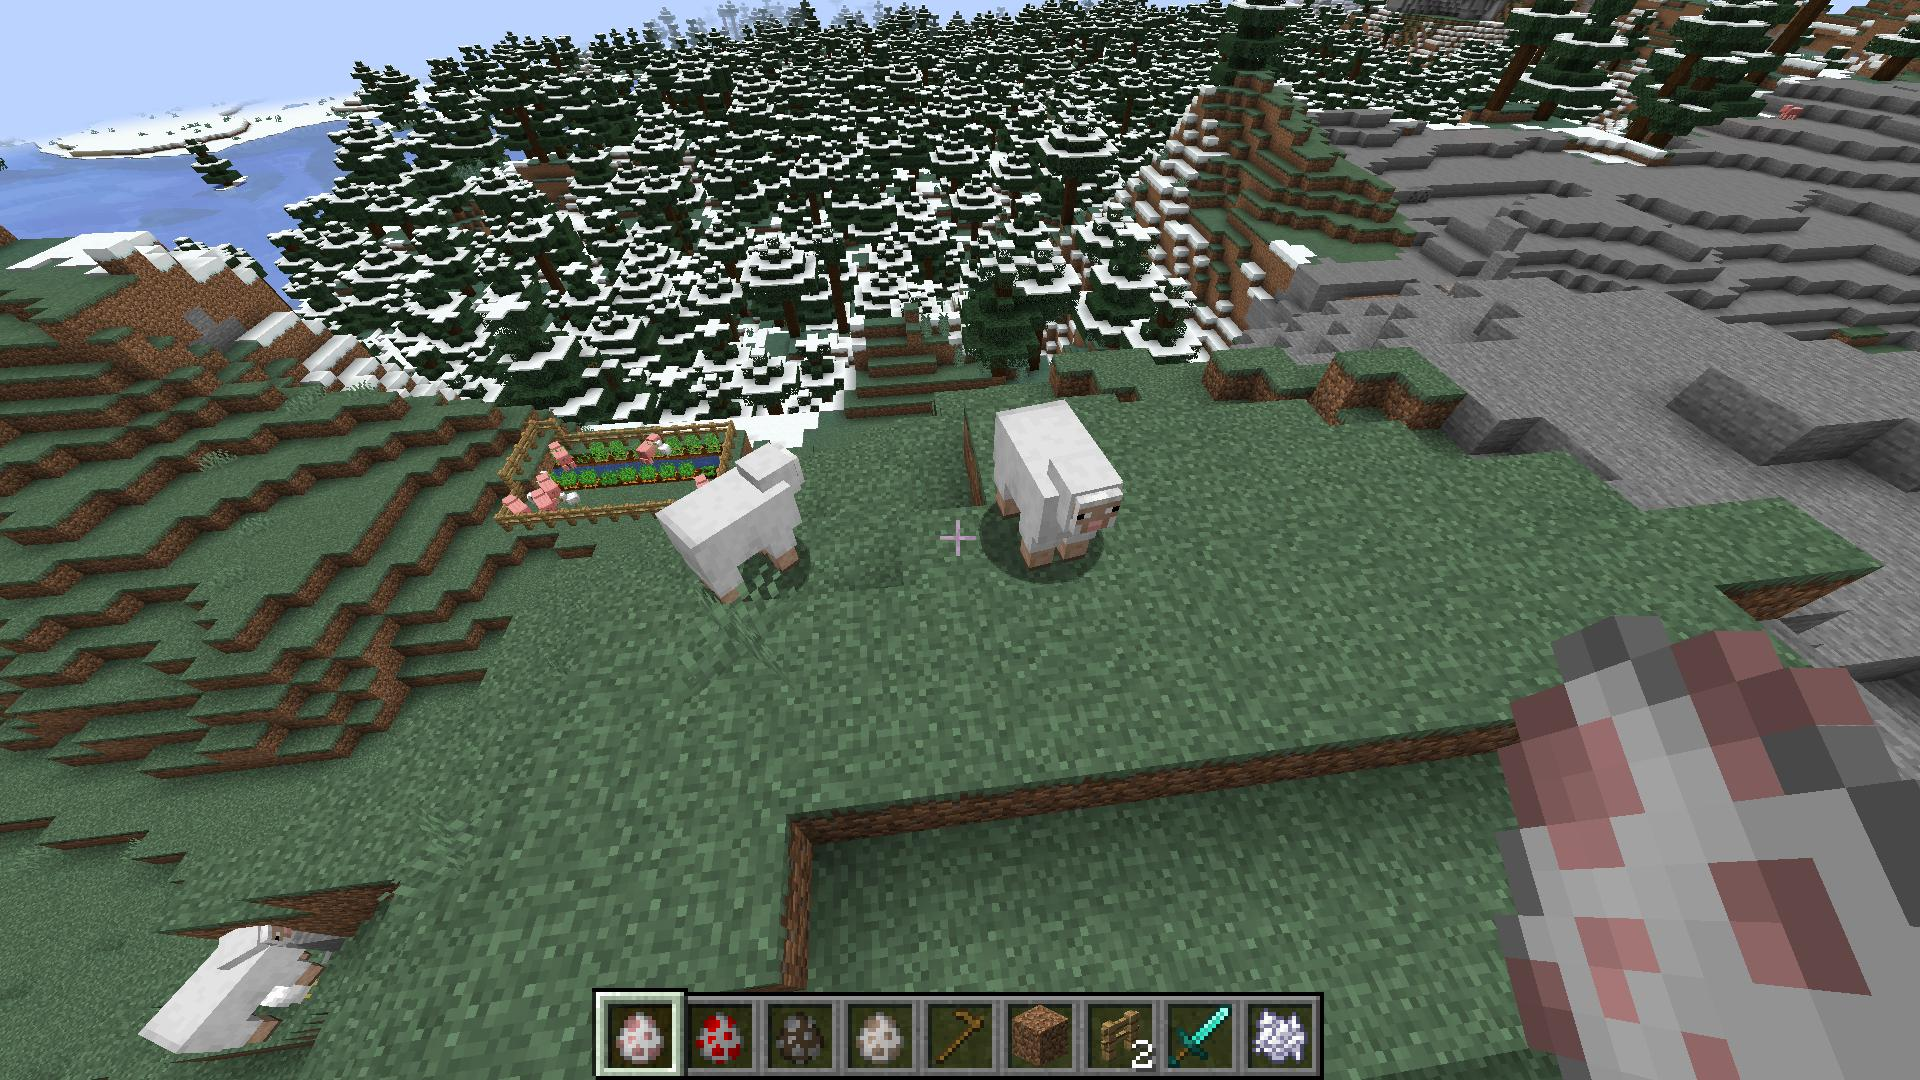sheep: (658, 439, 810, 603), (993, 398, 1127, 572)
